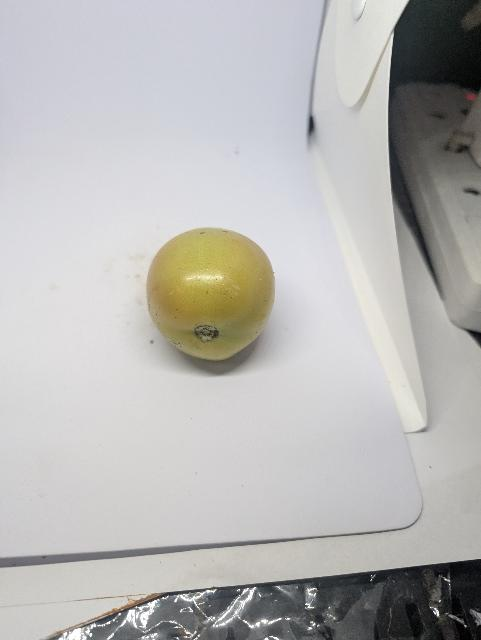breaker: (142, 222, 280, 364)
